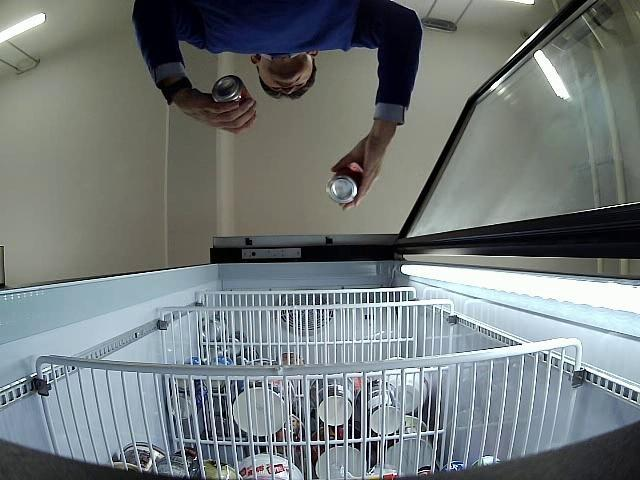11_cocaColaZero: (326, 162, 362, 204), (212, 75, 254, 104)
